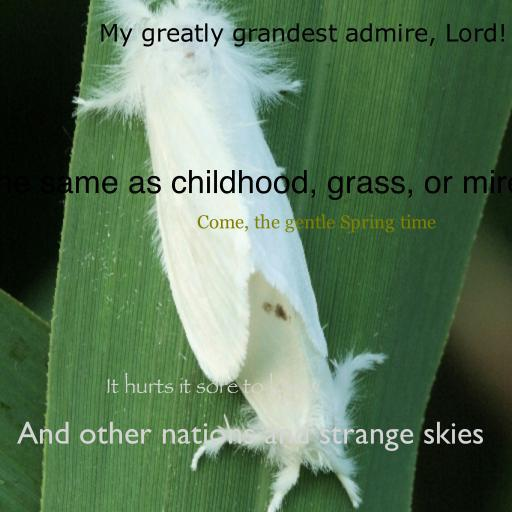Georgia: (196, 214, 436, 233)
Gill Sans: (16, 421, 484, 451)
Papyrus: (106, 372, 320, 394)
SF Pro: (0, 170, 512, 201)
Verdana: (99, 23, 507, 47)
